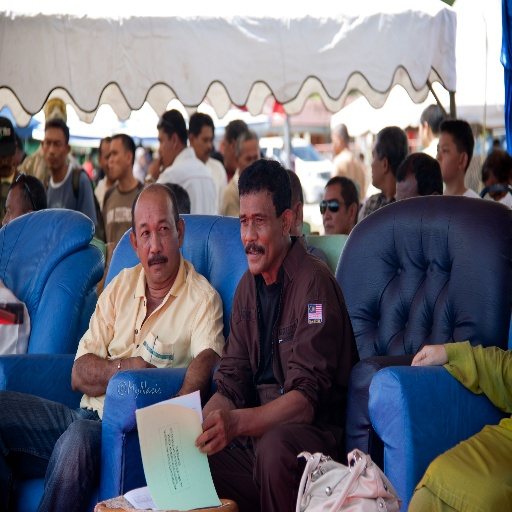hand: (199, 396, 242, 461), (410, 344, 448, 371), (145, 157, 162, 180)
